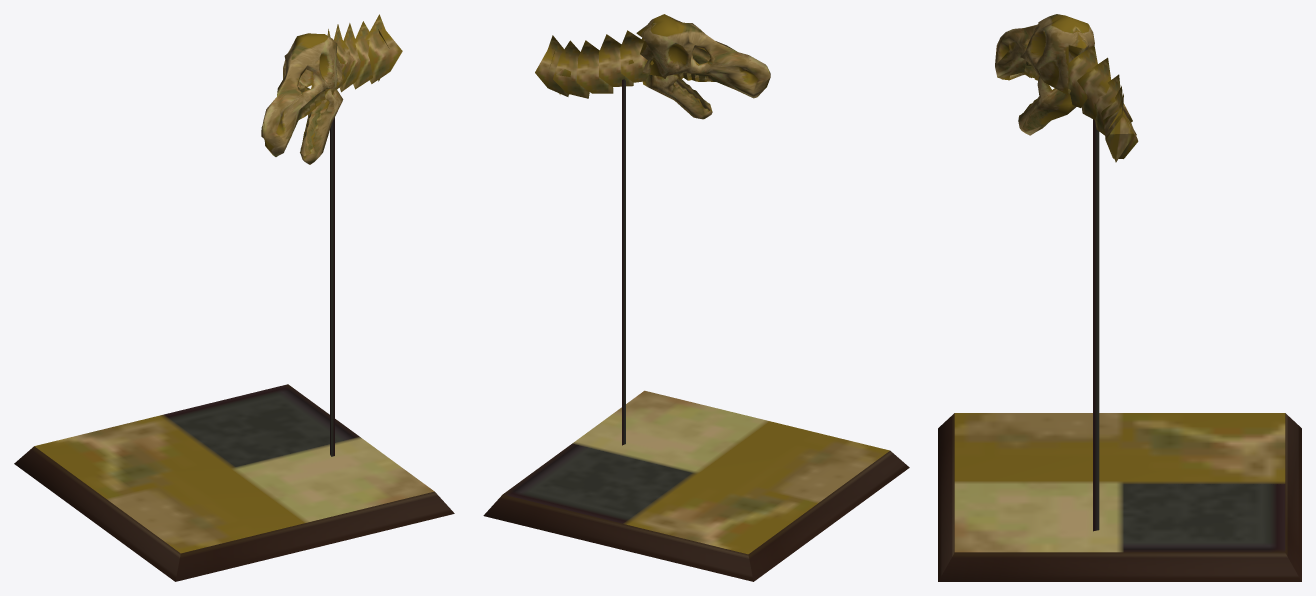
File: int_din_igano_a.dae
The picture shows the model from 3 angles, left to right: view 1: azimuth 30°, elevation 25°; view 2: azimuth 150°, elevation 25°; view 3: azimuth 270°, elevation 25°; orthographic projection. The views are drawn at different scales.
Parts seen in each view (by area): view 1: int_din_igano_a; view 2: int_din_igano_a; view 3: int_din_igano_a.
Boxes of the visible parts, bbox=[...] form: int_din_igano_a: bbox=[14, 14, 454, 581]; int_din_igano_a: bbox=[483, 14, 909, 581]; int_din_igano_a: bbox=[938, 14, 1301, 581].
Size of the model in its own units: 63.28 by 91.76 by 58.65.
Materials: 1 (1 with a texture image).
